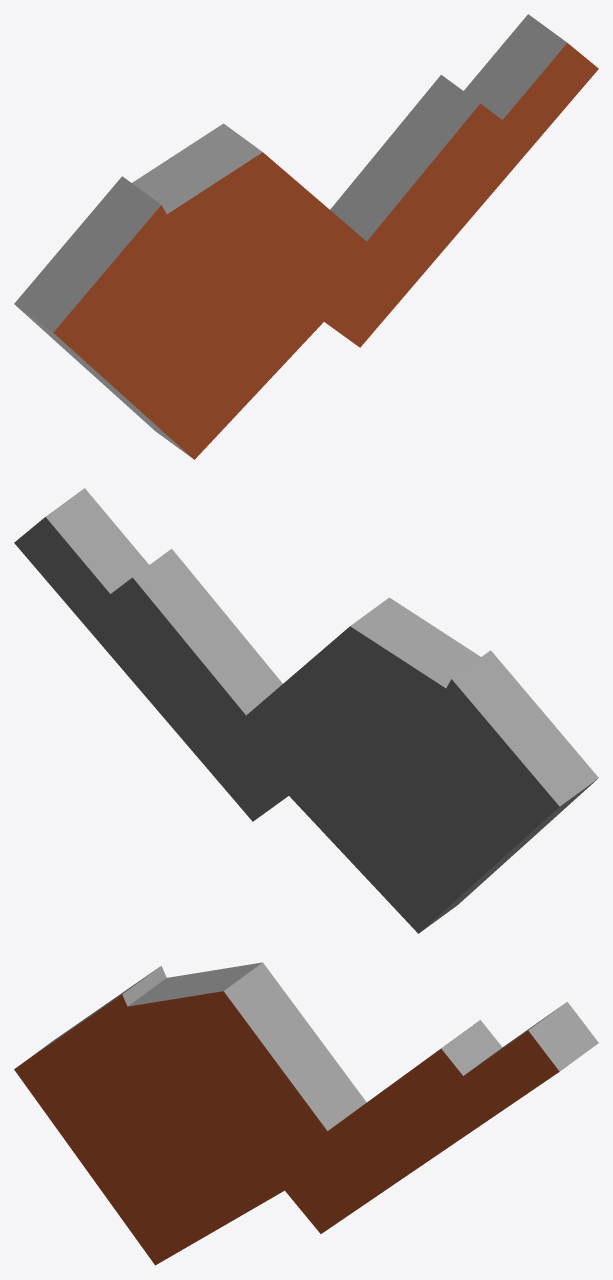
File: construction_6691_assumed_A_Casa_h6m.obj
The picture shows the model from 3 angles, top to bottom: view 1: azimuth 30°, elevation 25°; view 2: azimuth 150°, elevation 25°; view 3: azimuth 330°, elevation 25°; orthographic projection.
Visible parts, largest first — view 1: construction_6691_assumed_A_Casa; view 2: construction_6691_assumed_A_Casa; view 3: construction_6691_assumed_A_Casa.
Boxes of the visible parts, x1,y1,x2,y2 form: construction_6691_assumed_A_Casa: [14, 14, 598, 459]; construction_6691_assumed_A_Casa: [14, 488, 598, 933]; construction_6691_assumed_A_Casa: [14, 962, 598, 1265].
Bounding box in the file's own units: 48.13 × 27.49 × 6.
